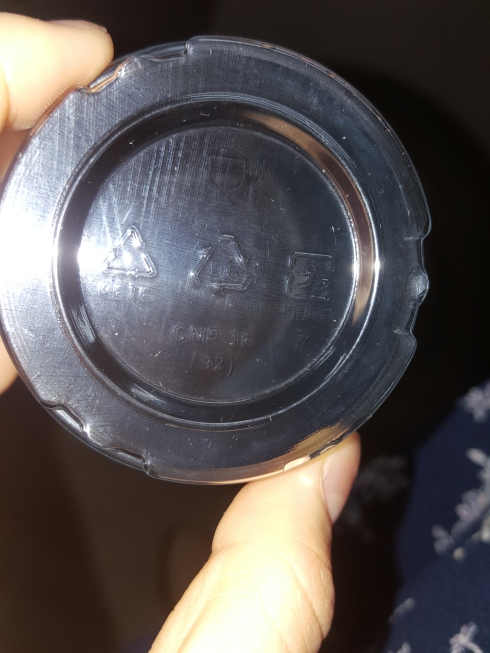recycle: (100, 211, 161, 312)
